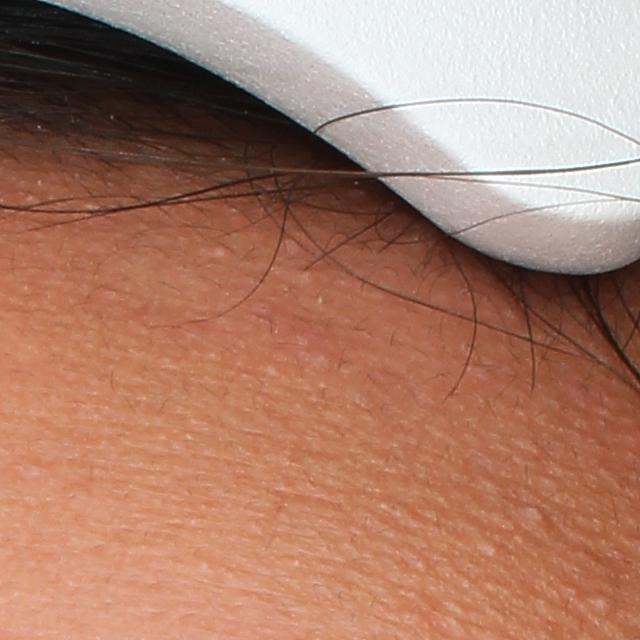comedo: (516, 501, 552, 536), (591, 593, 613, 615), (483, 540, 502, 557)
